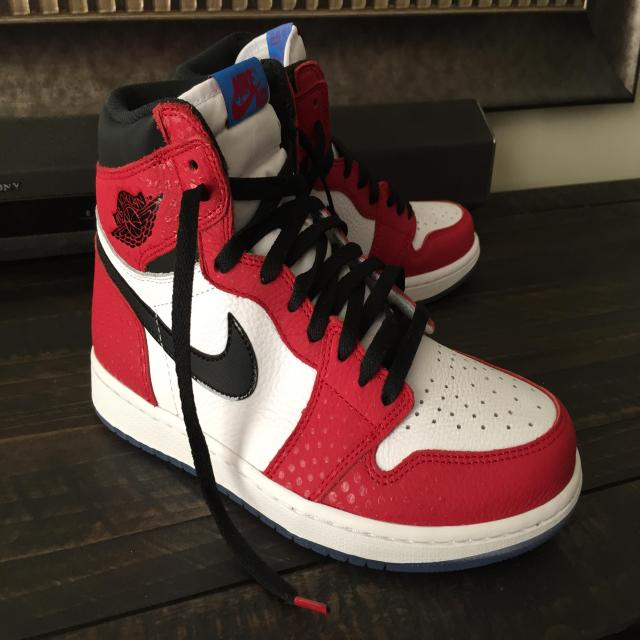shoes: (76, 48, 596, 591), (203, 19, 502, 323)
